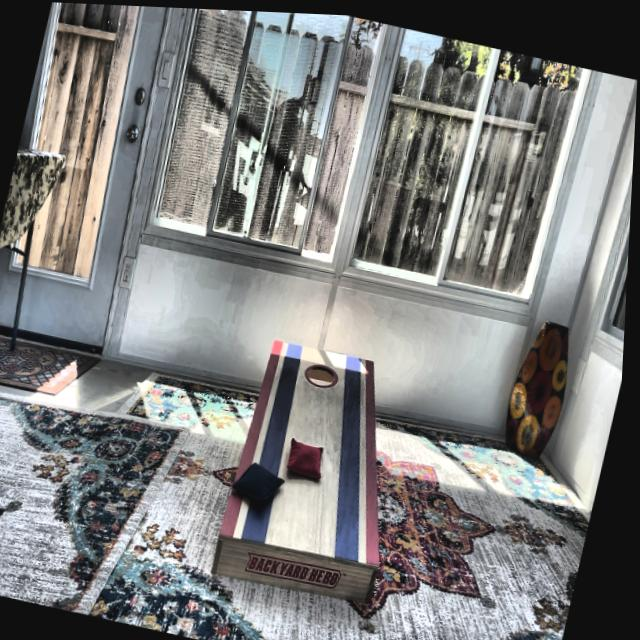blue-bean-bag: (234, 455, 292, 505)
board: (232, 336, 392, 561)
hole: (306, 356, 345, 388)
red-bean-bag: (288, 433, 333, 479)
